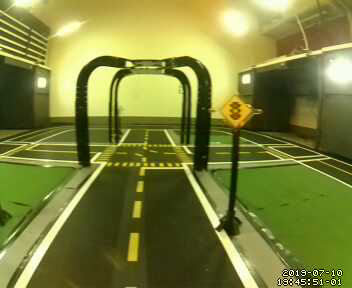Traffic light sign: (219, 95, 256, 128)
